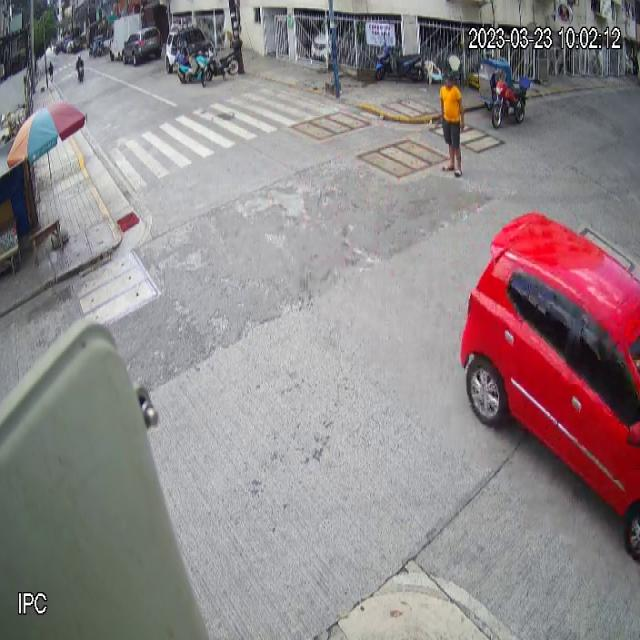Car: (460, 209, 640, 561)
Tricycle: (478, 56, 532, 129)
